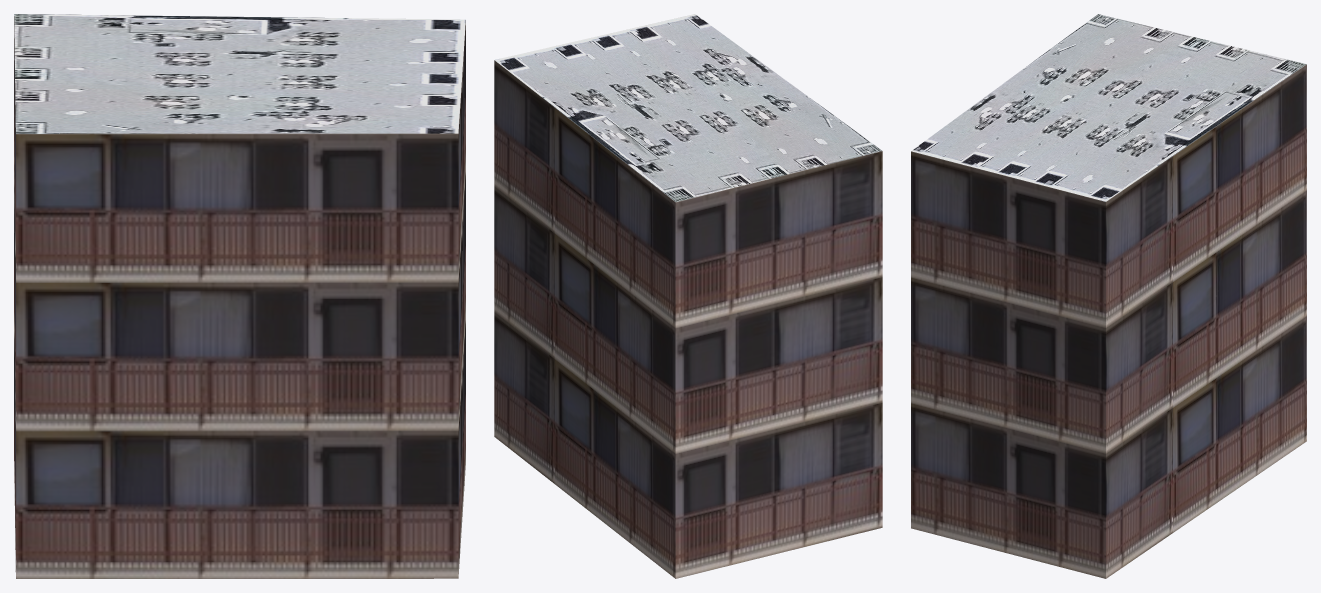
The model's file is ResTex__4601.fbx.
3 views of the same model, side by side, from view 1: azimuth 30°, elevation 25°; view 2: azimuth 150°, elevation 25°; view 3: azimuth 270°, elevation 25° (orthographic). The views are drawn at different scales.
Visible parts, largest first — view 1: CityEngineMaterial_6_m, CityEngineMaterial_m; view 2: CityEngineMaterial_6_m, CityEngineMaterial_m; view 3: CityEngineMaterial_6_m, CityEngineMaterial_m.
Boxes of the visible parts, x1=… form: CityEngineMaterial_6_m: x1=14, y1=16, x2=465, y2=578; CityEngineMaterial_m: x1=14, y1=14, x2=465, y2=133; CityEngineMaterial_6_m: x1=494, y1=60, x2=882, y2=578; CityEngineMaterial_m: x1=494, y1=14, x2=882, y2=201; CityEngineMaterial_6_m: x1=911, y1=64, x2=1306, y2=578; CityEngineMaterial_m: x1=911, y1=14, x2=1306, y2=201.
Bounding box in the file's own units: 9.62 × 9 × 8.57.
2 materials, 2 textured.
